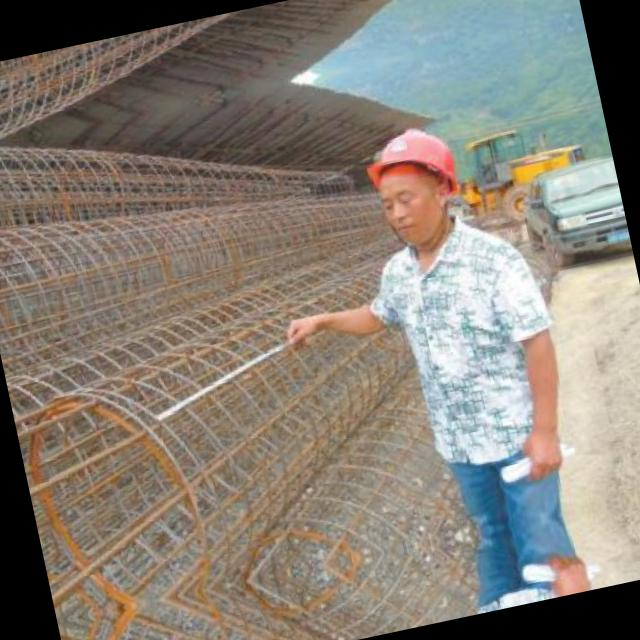helmet: (349, 111, 482, 258)
